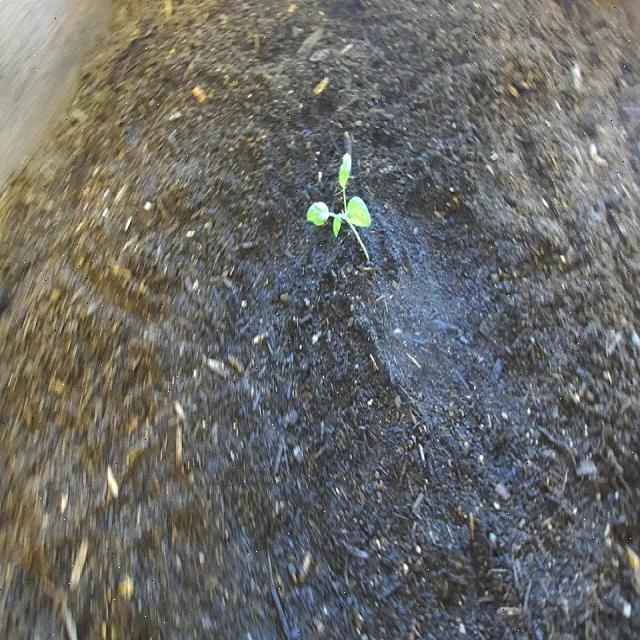Healthy: (294, 128, 394, 286)
